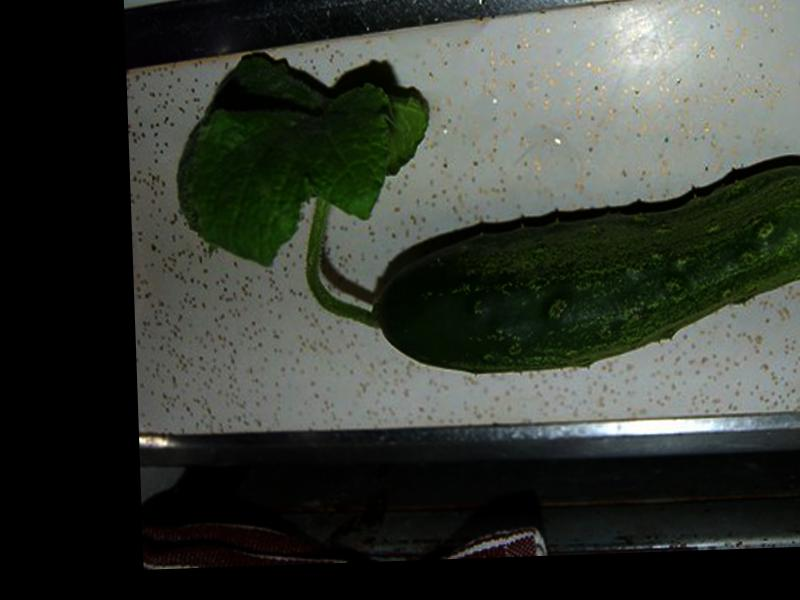Cucumber: (366, 158, 800, 378)
